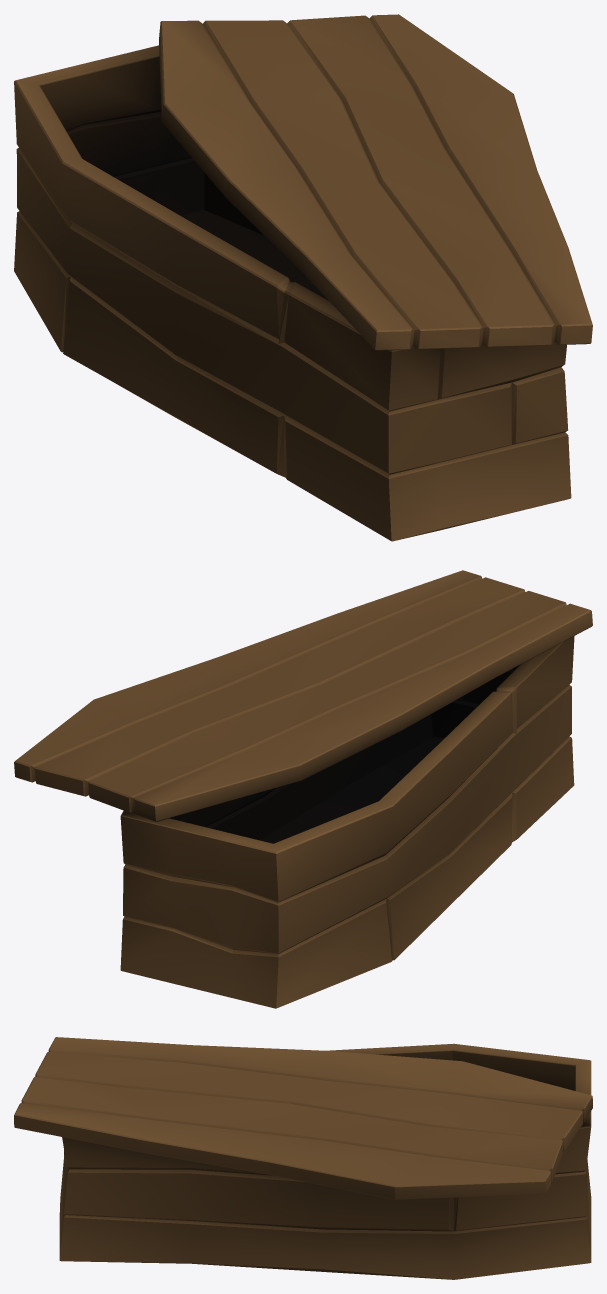
The model's file is obj_coffin_B.FBX.
3 views of the same model, one above another, from view 1: azimuth 30°, elevation 25°; view 2: azimuth 150°, elevation 25°; view 3: azimuth 270°, elevation 25° (orthographic). The views are drawn at different scales.
Parts seen in each view (by area): view 1: obj_coffin_B; view 2: obj_coffin_B; view 3: obj_coffin_B.
Boxes of the visible parts, bbox=[...] form: obj_coffin_B: bbox=[14, 14, 592, 541]; obj_coffin_B: bbox=[14, 570, 592, 1008]; obj_coffin_B: bbox=[14, 1037, 592, 1279].
Size of the model in its own units: 2.02 by 1.04 by 3.46.
